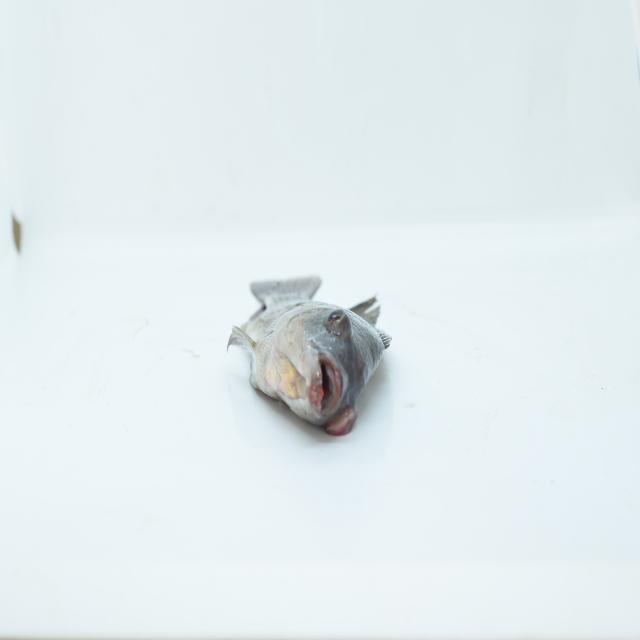Columnaris Disease: (222, 208, 393, 508)
